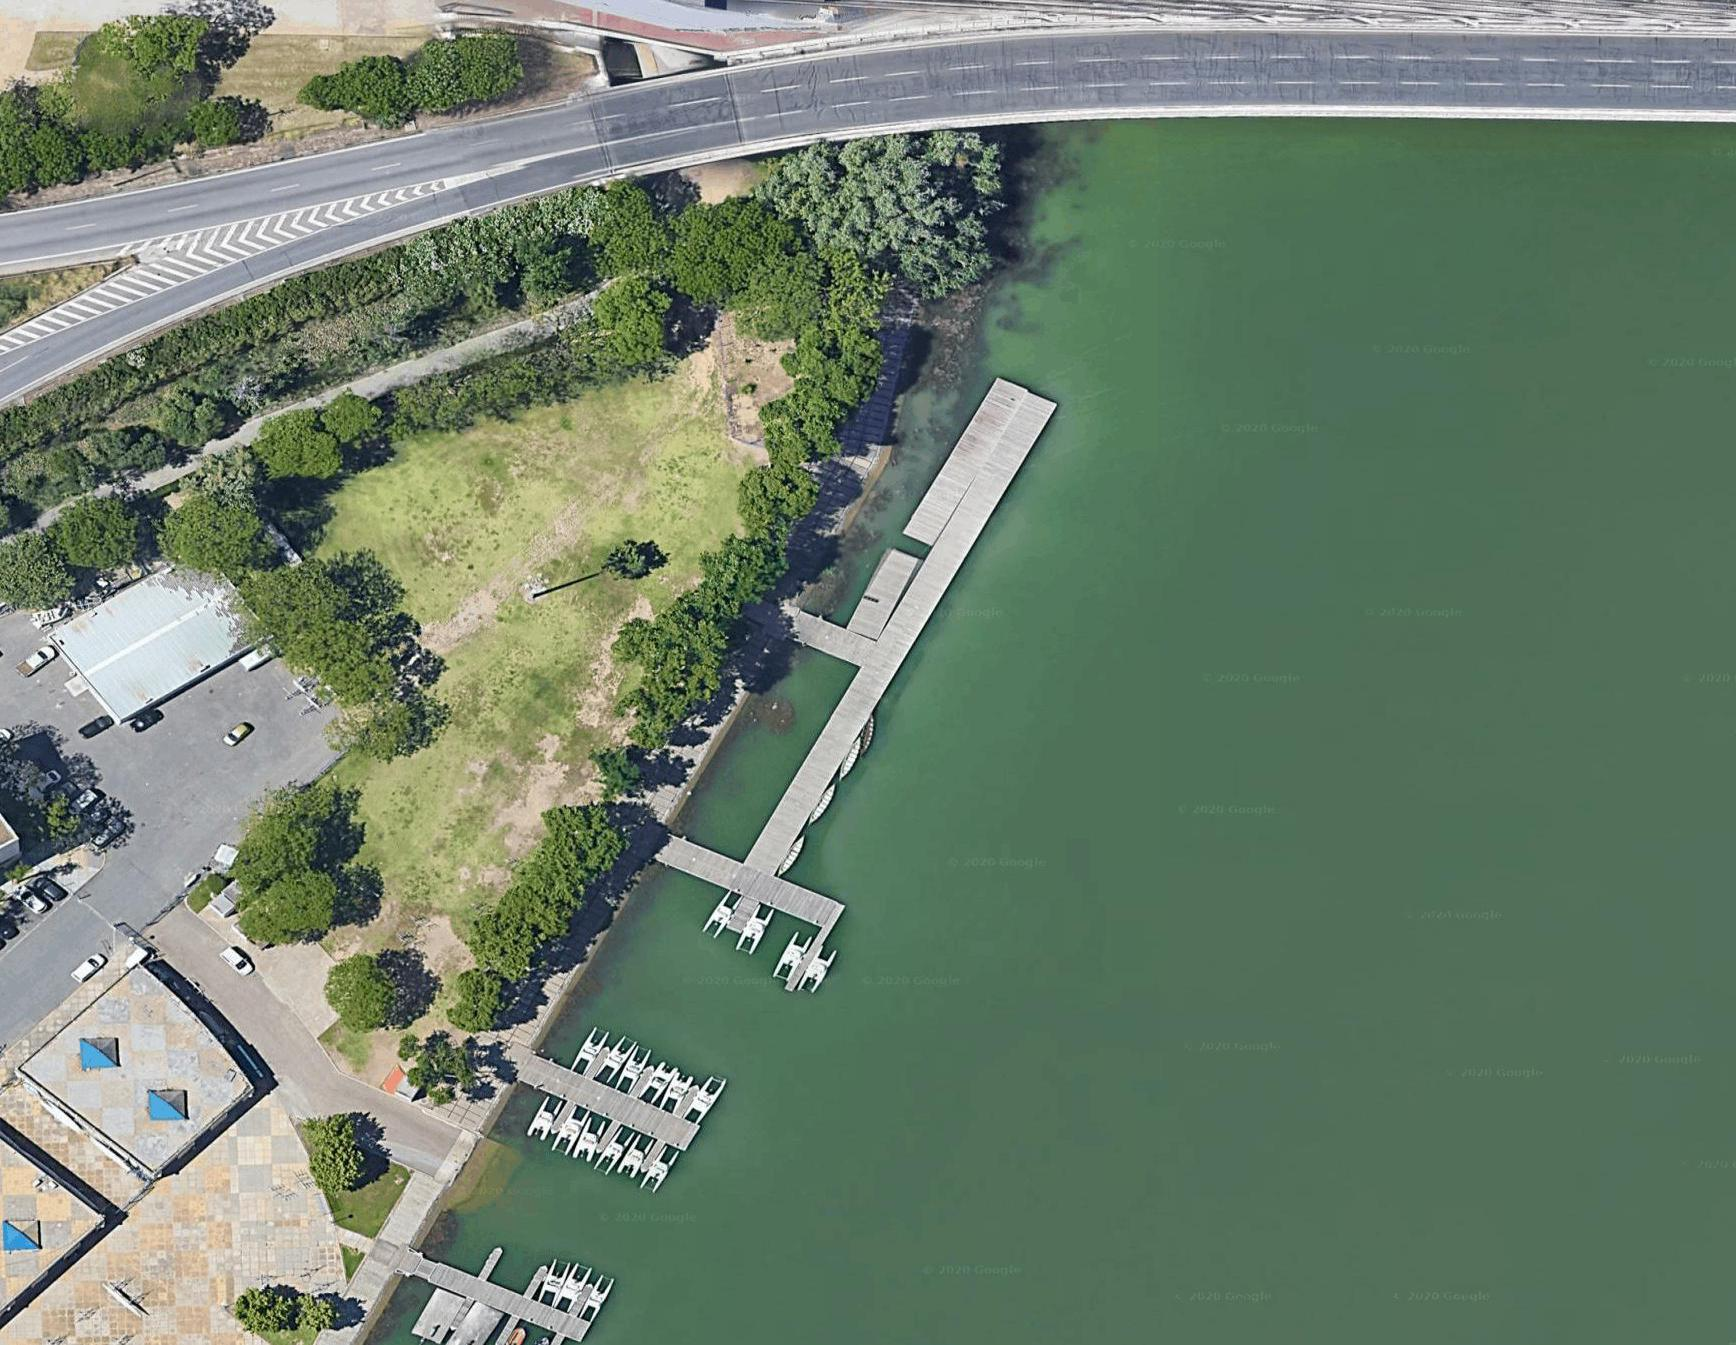bridge: (1010, 1, 1736, 192)
harbor: (688, 365, 1072, 972), (533, 1018, 710, 1208), (407, 1238, 592, 1345)
small-vehicle: (217, 715, 252, 751), (72, 949, 107, 984), (34, 873, 69, 908), (220, 944, 255, 977)
